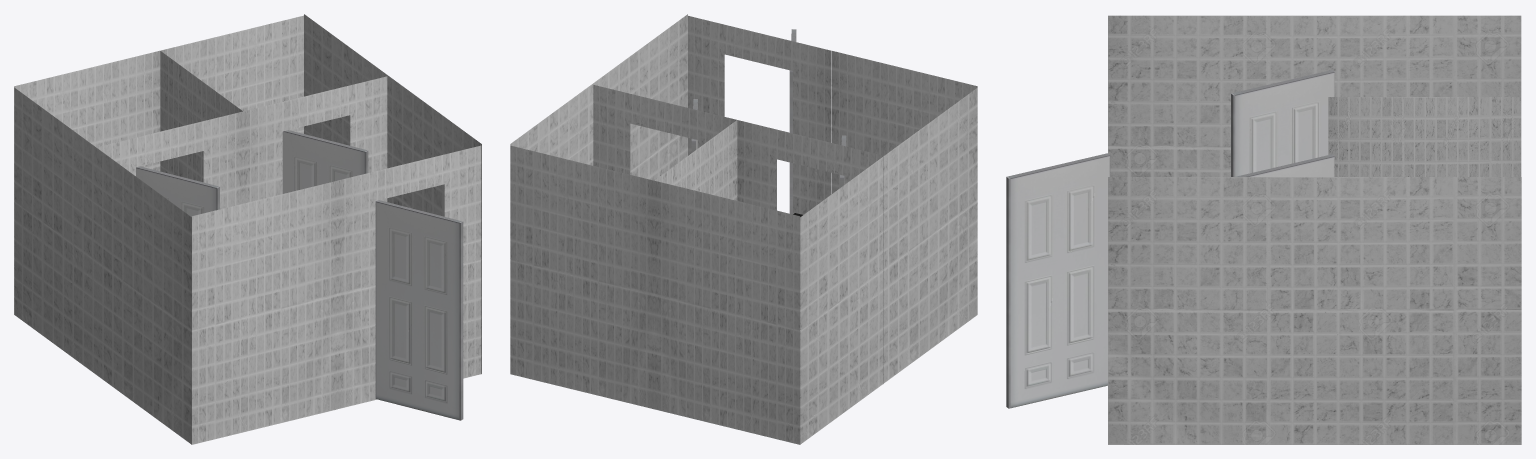
Rendered from toilet.gltf.
The picture shows the model from 3 angles, left to right: view 1: azimuth 30°, elevation 25°; view 2: azimuth 150°, elevation 25°; view 3: azimuth 270°, elevation 25°; orthographic projection. The views are drawn at different scales.
Visible parts, largest first — view 1: wall02.001, wall01.005, Plane, wall01.004, wall02, wall01.002, wall01.001, wall01, wall01.003, wall03.001, Plane.002, Plane.001; view 2: wall02.001, wall01.002, wall01, wall01.004, wall02, wall01.005, wall01.003, wall01.001, wall03.001, Plane; view 3: wall02, wall02.001, Plane, wall03.001, Plane.001, Plane.002.
Boxes of the visible parts, x1,y1,x2,y2 form: wall02.001: (14,87,191,444); wall01.005: (192,180,337,444); Plane: (375,200,463,420); wall01.004: (337,145,481,408); wall02: (304,14,481,373); wall01.002: (14,50,160,314); wall01.001: (243,76,387,203); wall01: (160,15,303,170); wall01.003: (97,111,243,209); wall03.001: (160,51,242,182); Plane.002: (282,130,368,193); Plane.001: (136,166,219,216); wall02.001: (800,88,977,444); wall01.002: (654,180,800,444); wall01: (510,145,654,409); wall01.004: (688,16,831,214); wall02: (510,14,687,180); wall01.005: (832,51,977,193); wall01.003: (737,120,883,383); wall01.001: (593,85,736,174); wall03.001: (654,120,737,200); Plane: (789,29,796,214); wall02: (1108,177,1521,444); wall02.001: (1108,15,1521,176); Plane: (1006,153,1110,408); wall03.001: (1328,97,1521,176); Plane.001: (1231,70,1334,176); Plane.002: (1235,154,1334,176).
Bounding box in the file's own units: 3.56 × 2.7 × 4.7.
13 materials, 7 textured.
